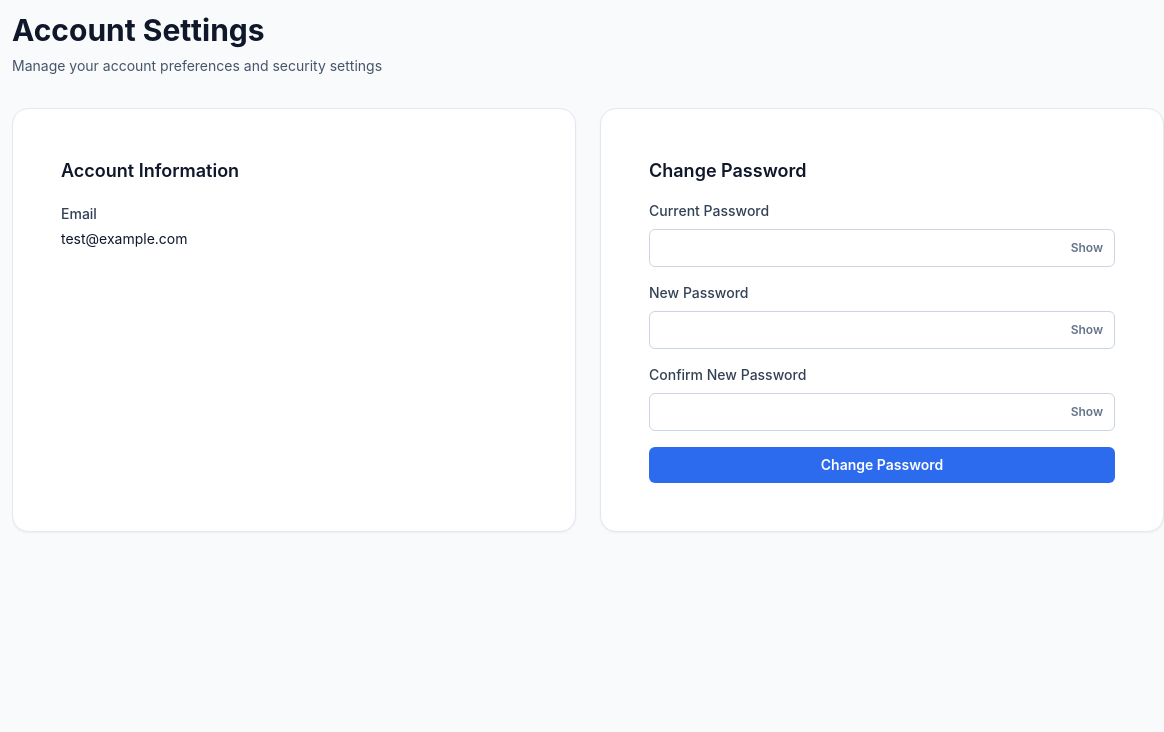
Test: AccountPage › handles successful password change
Type "currentpass123" into the password field labelled "Current Password".
click(882, 248); type("currentpass123")  # box [649, 229, 1115, 267]
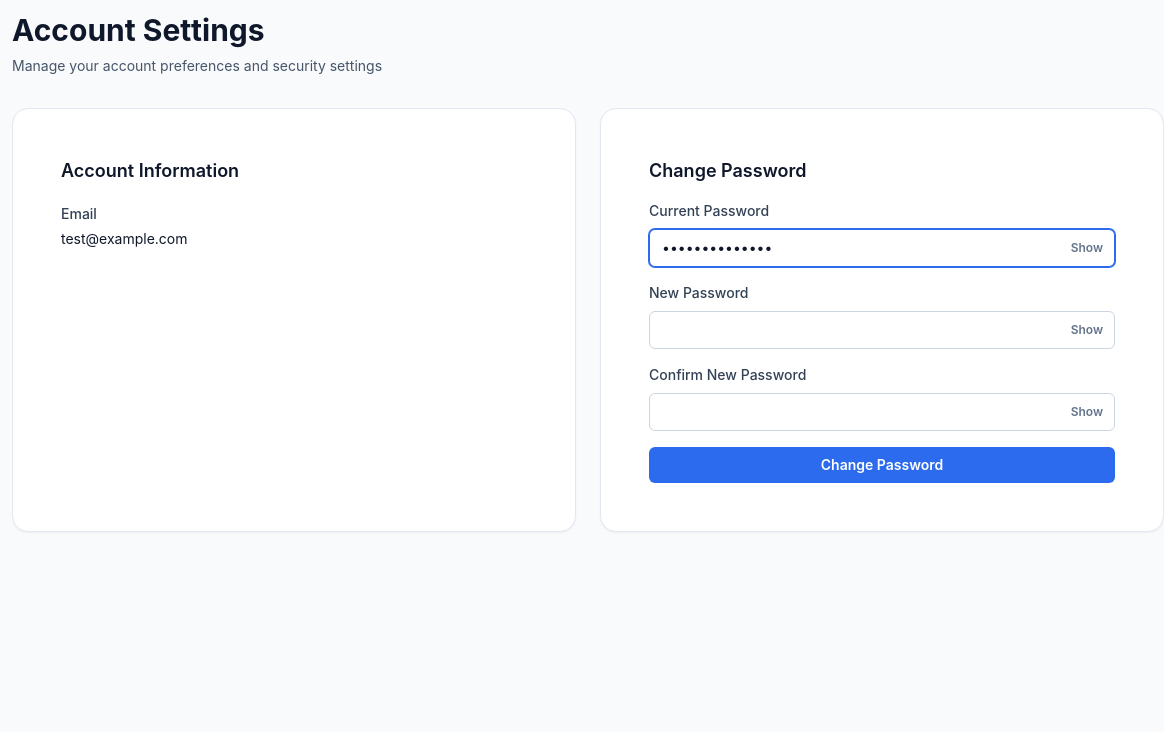
Type "newpassword123" into the password field labelled "New Password".
click(882, 330); type("newpassword123")  # box [649, 311, 1115, 349]
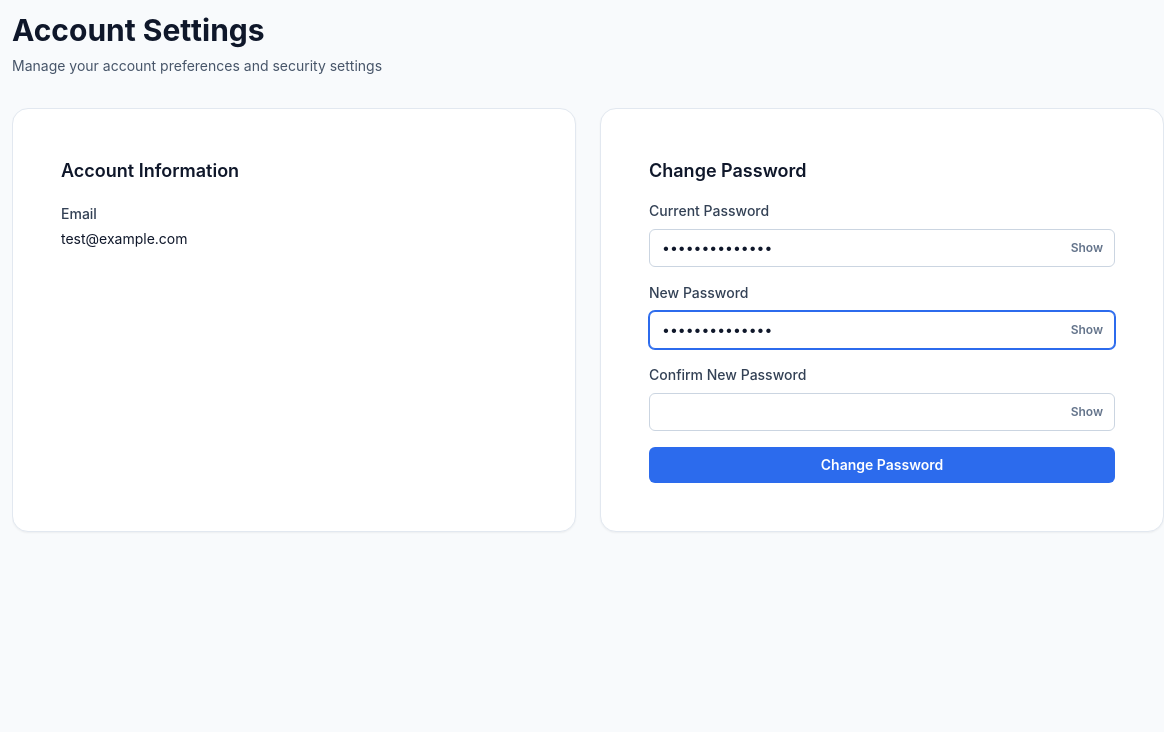
Type "newpassword123" into the password field labelled "Confirm New Password".
click(882, 412); type("newpassword123")  # box [649, 393, 1115, 431]
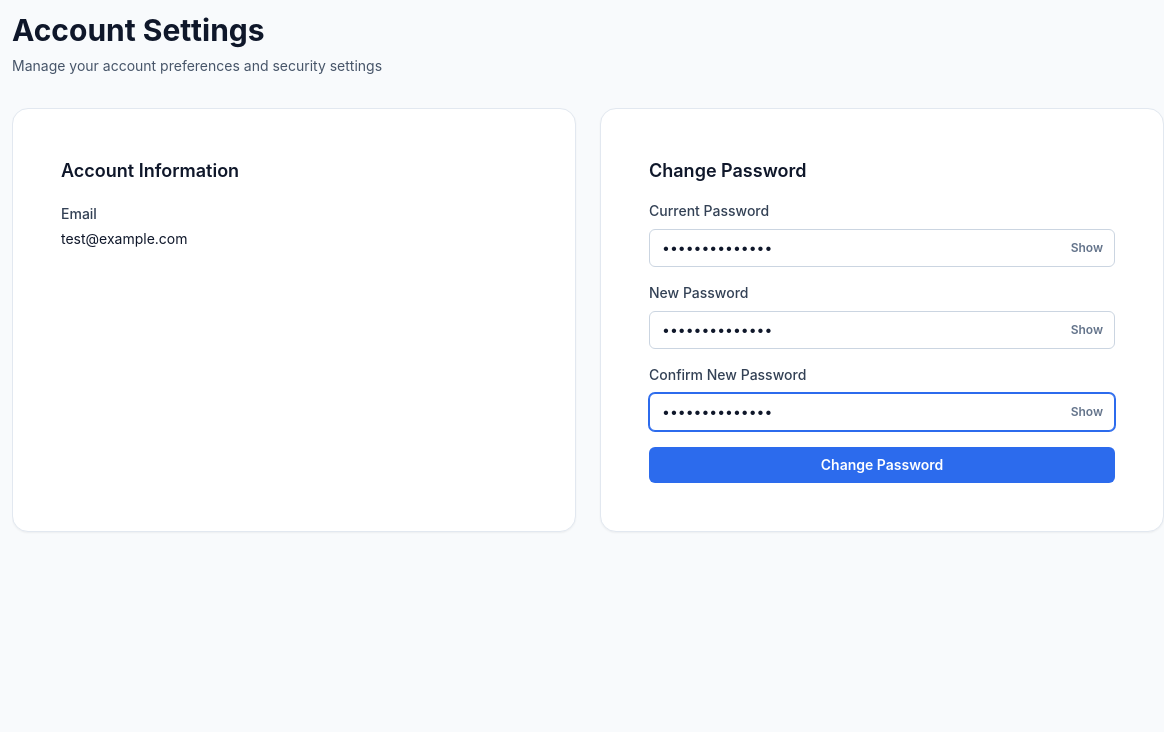
Click the button "Change Password".
click(882, 465)  # box [649, 447, 1115, 483]
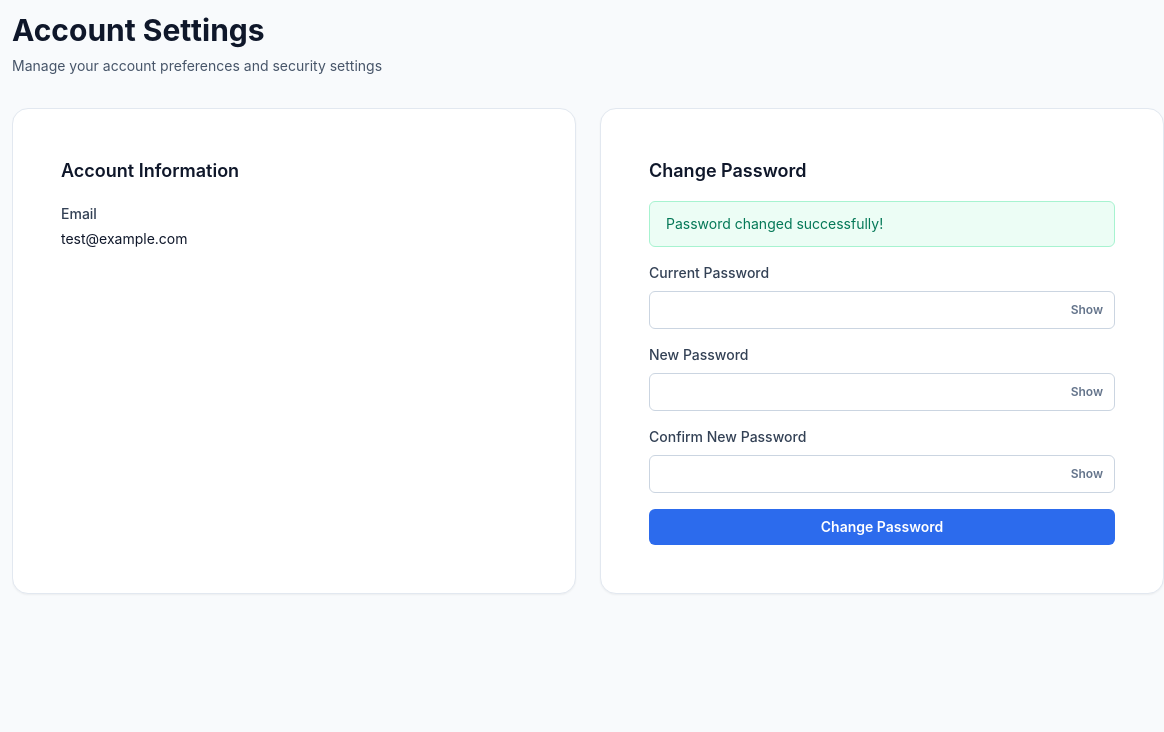
Check: the text "Password changed successfully!" is shown, box [649, 201, 1115, 247]
